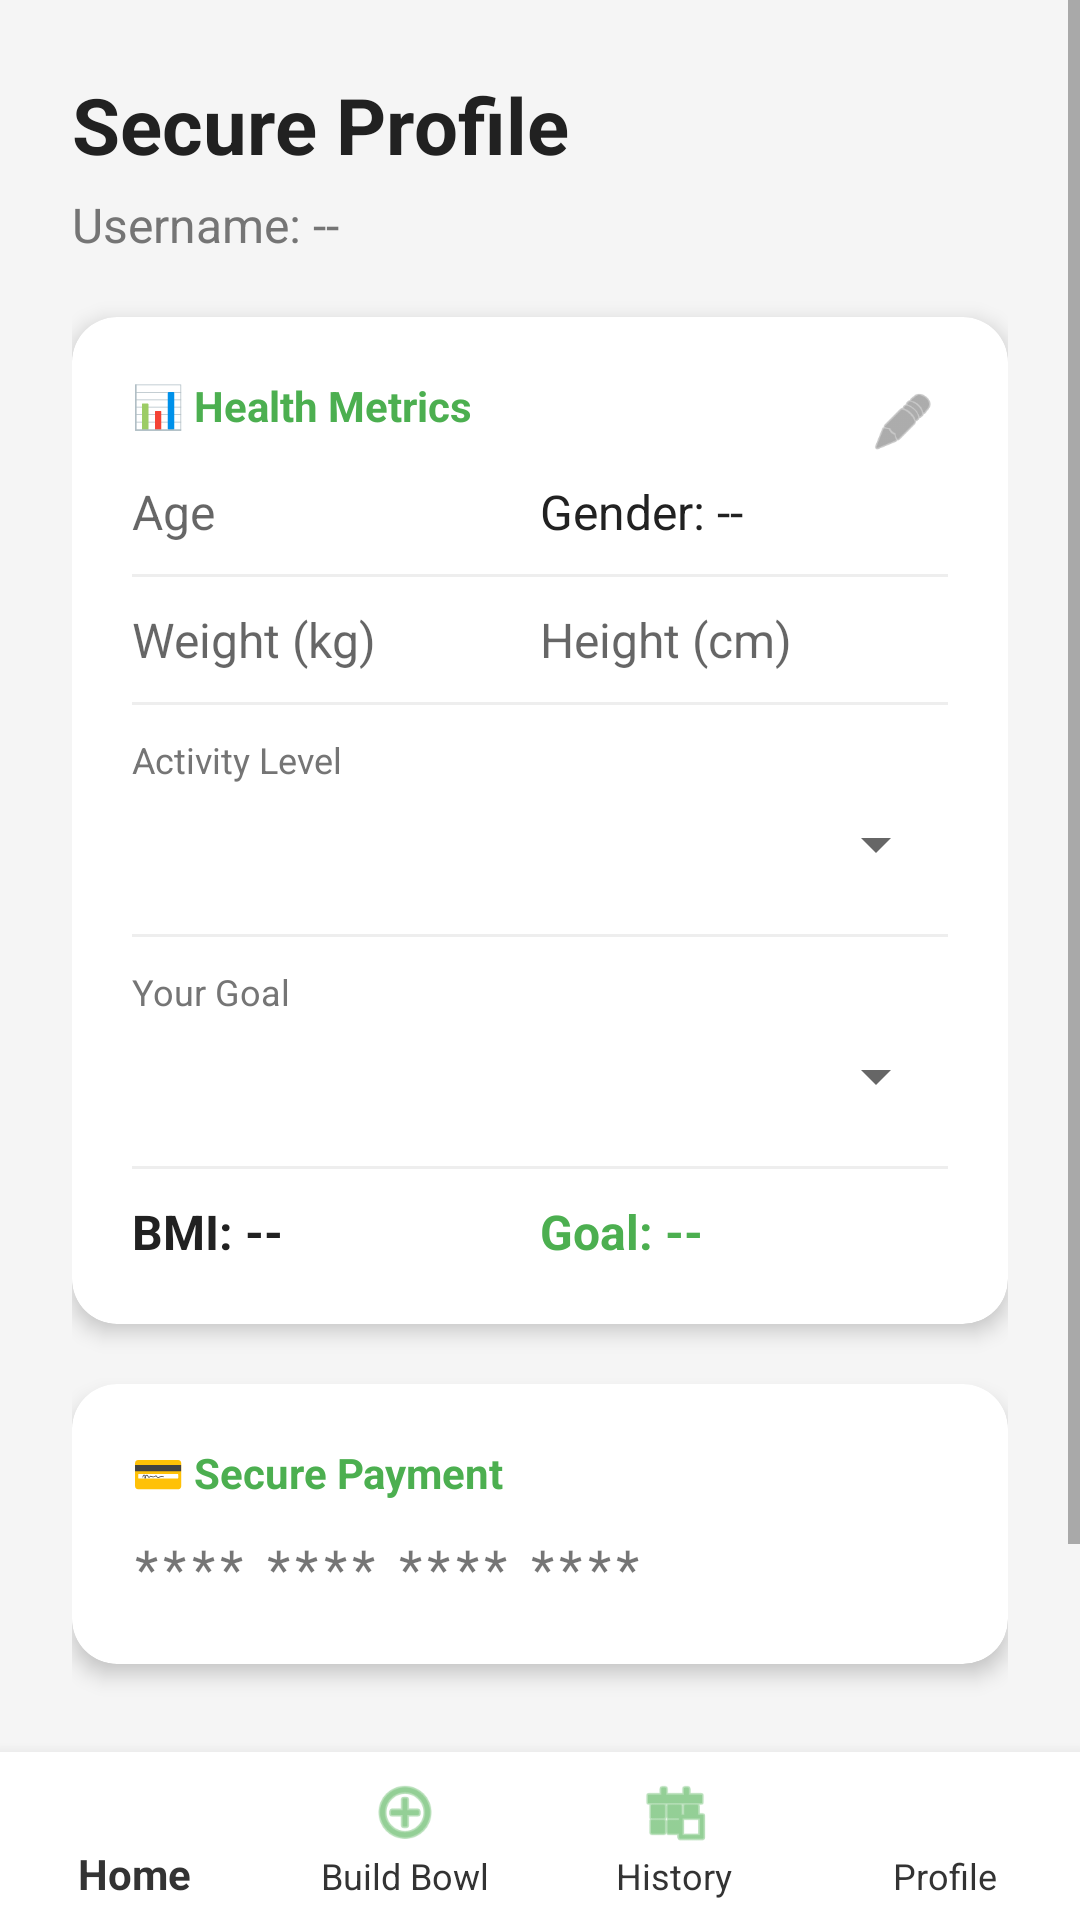

Icons on this 1080 × 1920 Android screen, each with the point to tap as point (x, y):
edit: point (903, 421)
